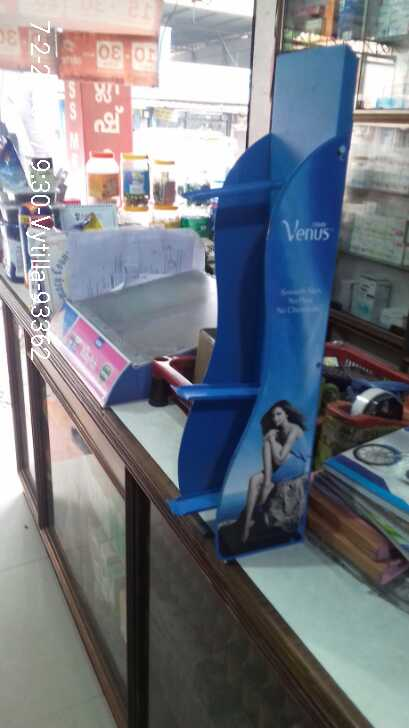reject: (195, 253, 349, 397)
